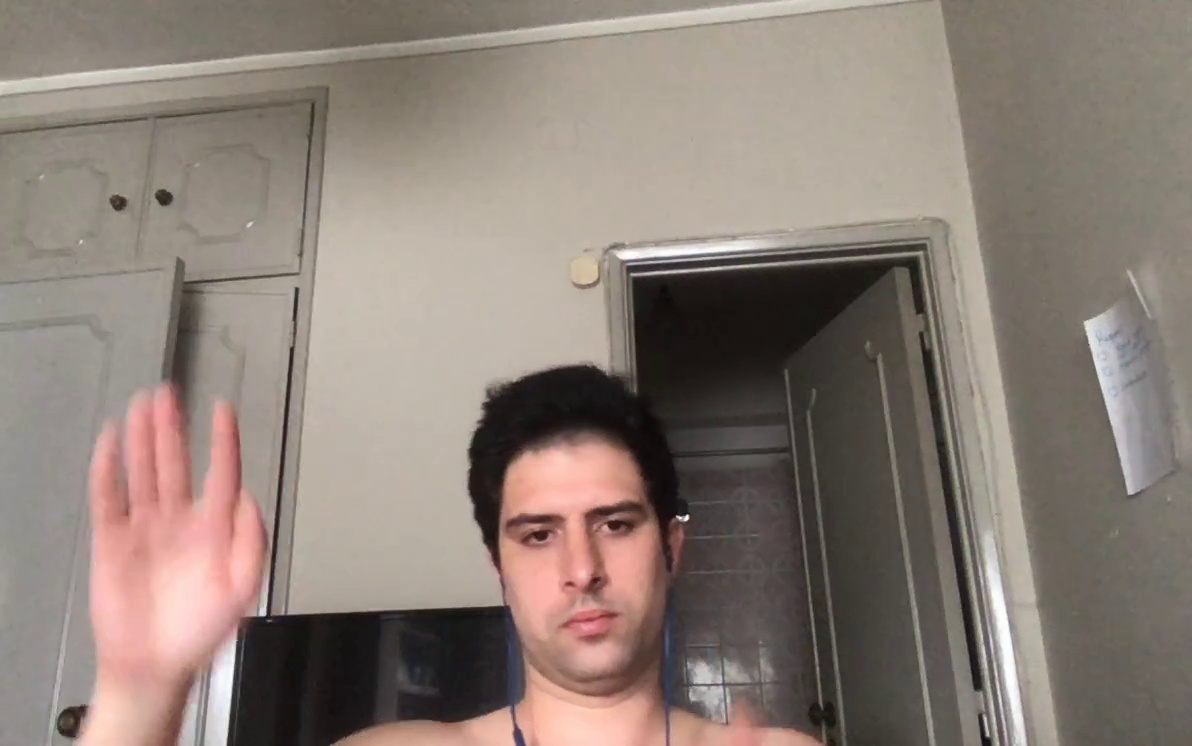b: (77, 372, 273, 670)
